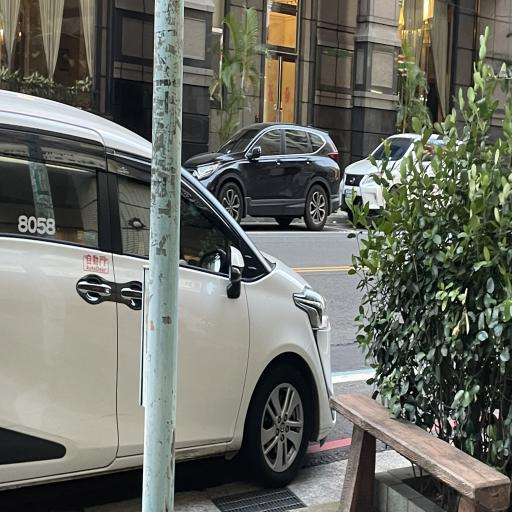MIU: (241, 394, 355, 474)
car: (0, 74, 338, 492), (185, 94, 350, 232), (338, 104, 428, 229)
redline: (307, 426, 367, 472)
